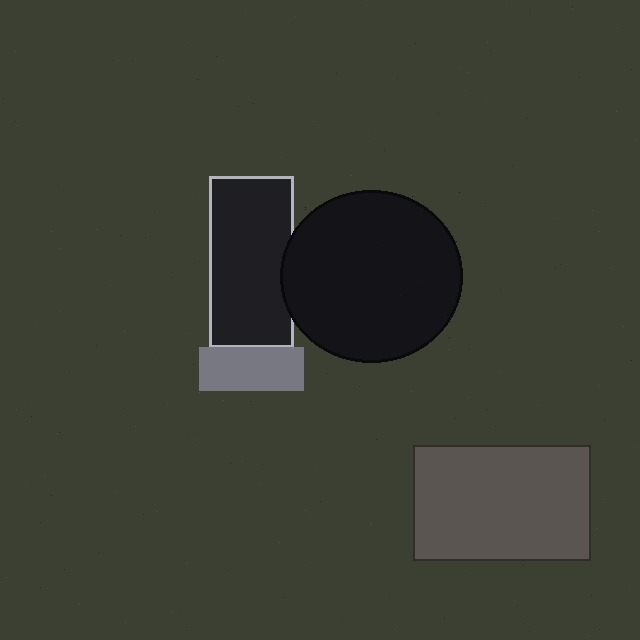concrete_damage: (413, 445, 590, 560)
laptop: (209, 176, 293, 390)
pothole: (280, 190, 462, 362)
